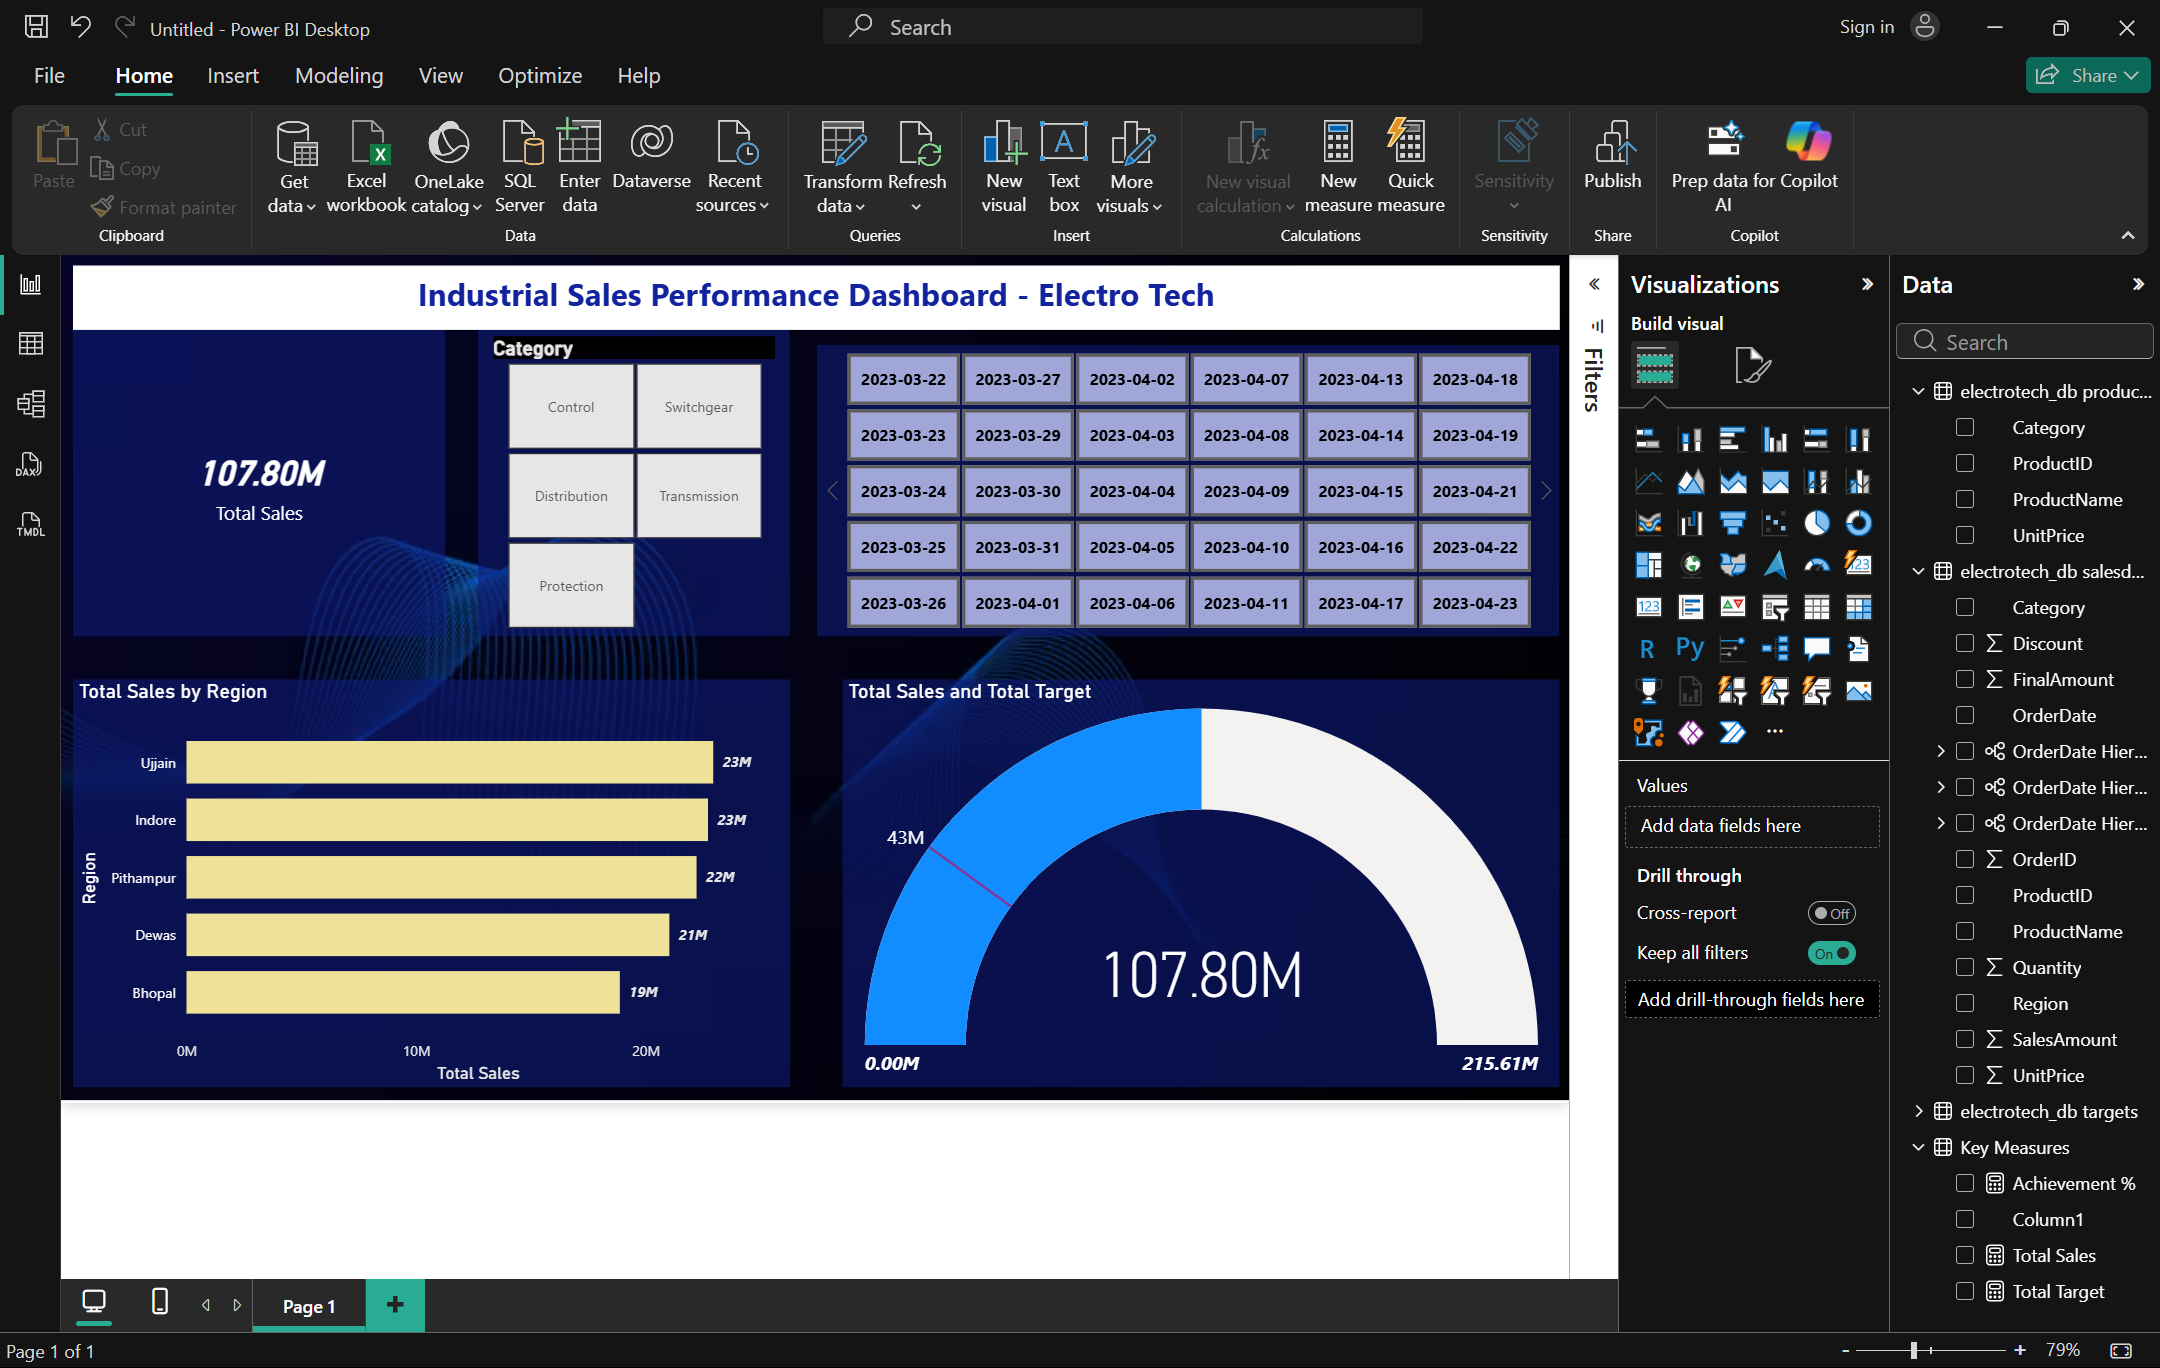

This screenshot's page, from the dashboard's own definition file:
{"tool":"powerbi","page":{"name":"Page 1","canvas":[1280,720],"ordinal":0},"visuals":[{"type":"card","fields":{"Values":["Key Measures.Total Sales"]},"box":[10.2,63.7,315.8,259.7],"z":0},{"type":"gauge","fields":{"Y":["Key Measures.Total Sales"],"TargetValue":["Key Measures.Total Target"]},"box":[663.3,360.3,608.6,346.3],"z":1000},{"type":"clusteredBarChart","fields":{"Category":["electrotech_db salesdata.Region"],"Y":["Key Measures.Total Sales"]},"box":[10.2,360.3,608.6,346.3],"z":2000},{"type":"slicer","fields":{"Values":["electrotech_db salesdata.Category"]},"box":[354,63.7,264.8,259.7],"z":3000},{"type":"slicer","fields":{"Values":["electrotech_db salesdata.OrderDate"]},"box":[641.7,76.4,630.2,247],"z":4000},{"type":"textbox","box":[10.2,8.9,1261.8,54.7],"z":5000}]}

Visuals, with their boxes on the page's 1280x720 design canvas (x1, y1, x2, y2). These are canvas units, not pixel positions in the 2160x1368 screenshot, which may show the page scaled, cropped or inside an application window:
card - Key Measures.Total Sales: Rect(10, 64, 326, 323)
gauge - Key Measures.Total Sales x Key Measures.Total Target: Rect(663, 360, 1272, 707)
clusteredBarChart - electrotech_db salesdata.Region x Key Measures.Total Sales: Rect(10, 360, 619, 707)
slicer - electrotech_db salesdata.Category: Rect(354, 64, 619, 323)
slicer - electrotech_db salesdata.OrderDate: Rect(642, 76, 1272, 323)
textbox: Rect(10, 9, 1272, 64)
